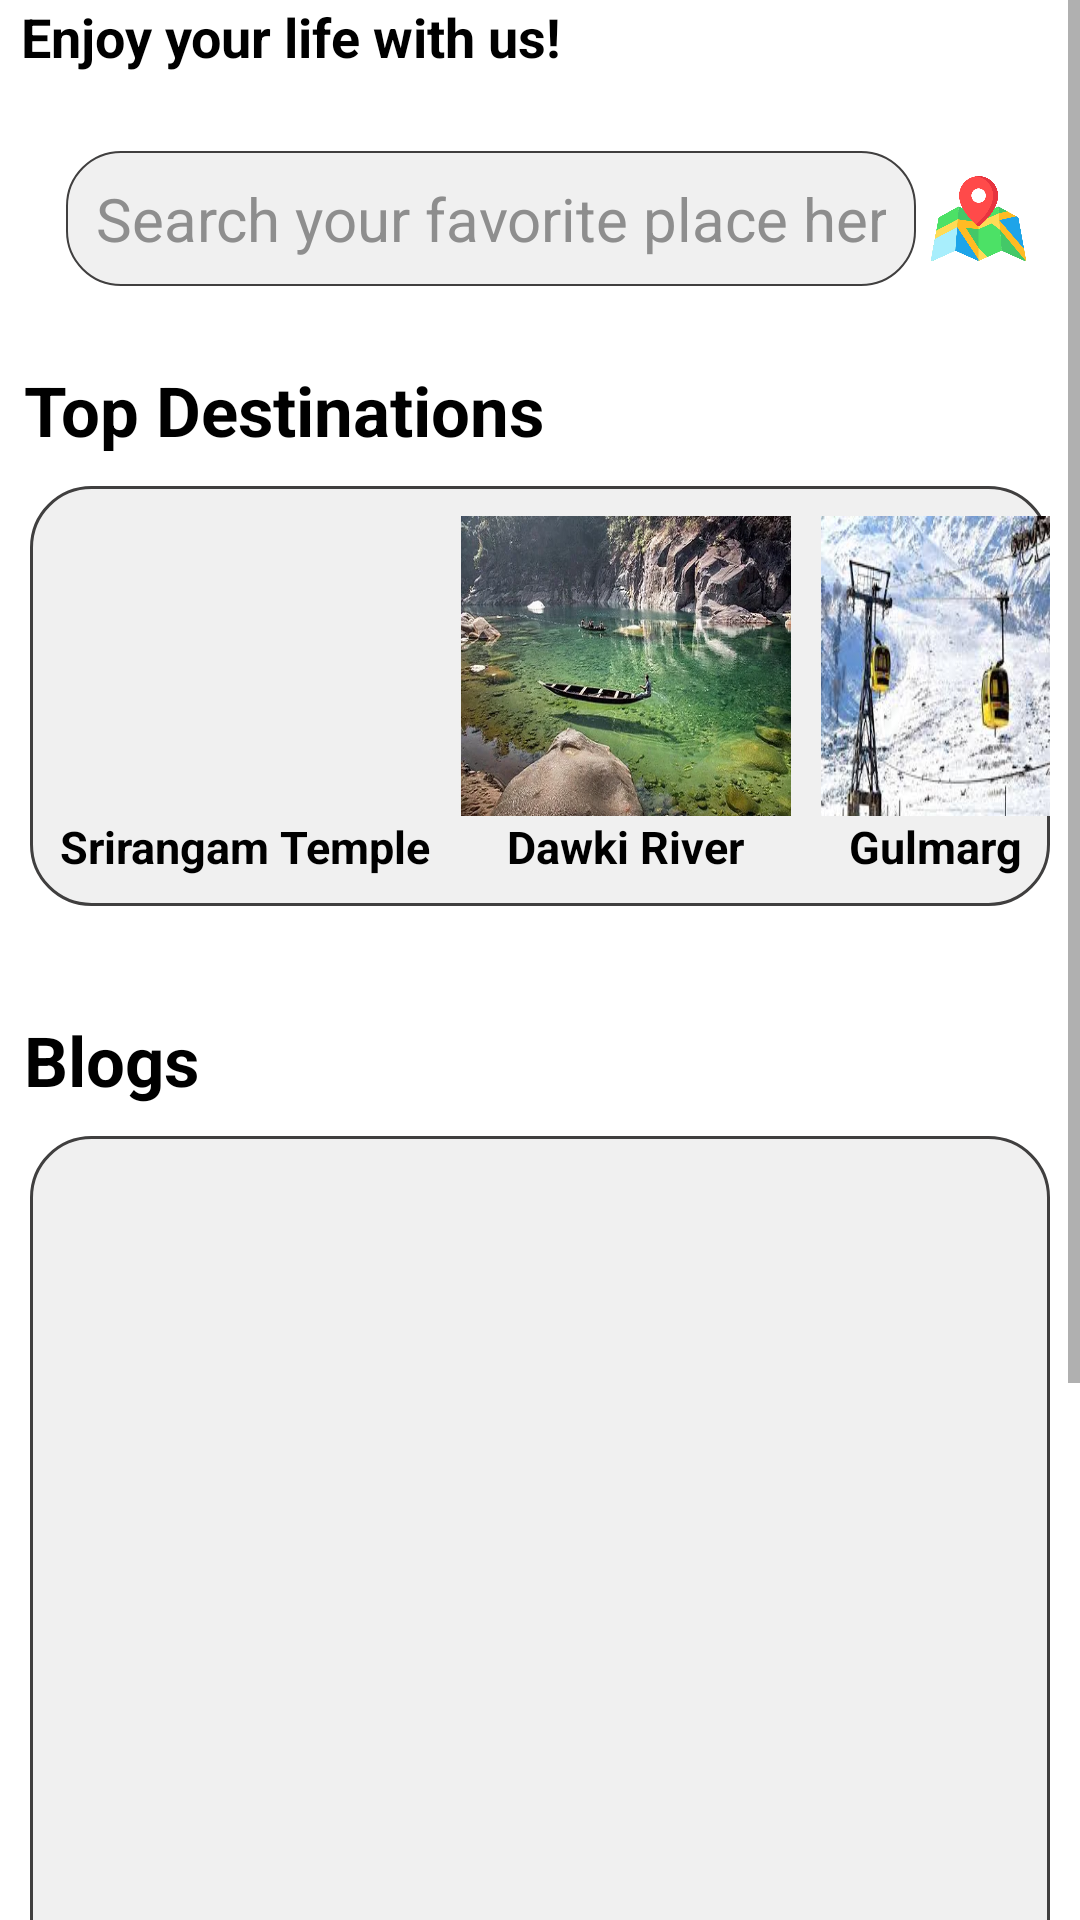

Point at icon controls on the screen. Image size 1080w x 1920h, points as [x,y].
map: [978,218]
